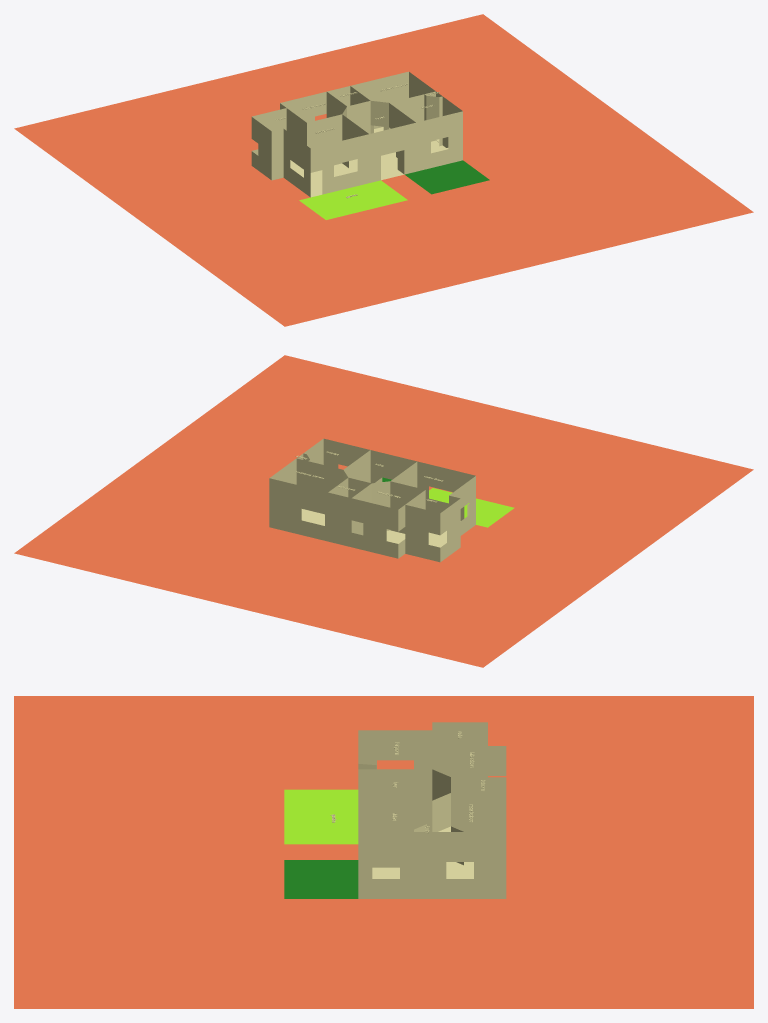
The model's file is SketchupPlan.fbx.
The picture shows the model from 3 angles, top to bottom: view 1: azimuth 30°, elevation 25°; view 2: azimuth 150°, elevation 25°; view 3: azimuth 270°, elevation 25°; orthographic projection. The views are drawn at different scales.
Parts seen in each view (by area): view 1: Model; view 2: Model; view 3: Model.
Part boxes in pixels (left/top/right/bottom): Model: left=14, top=14, right=753, bottom=326; Model: left=14, top=355, right=753, bottom=667; Model: left=14, top=696, right=753, bottom=1008.
Bounding box in the file's own units: 40 × 4.03 × 40.
